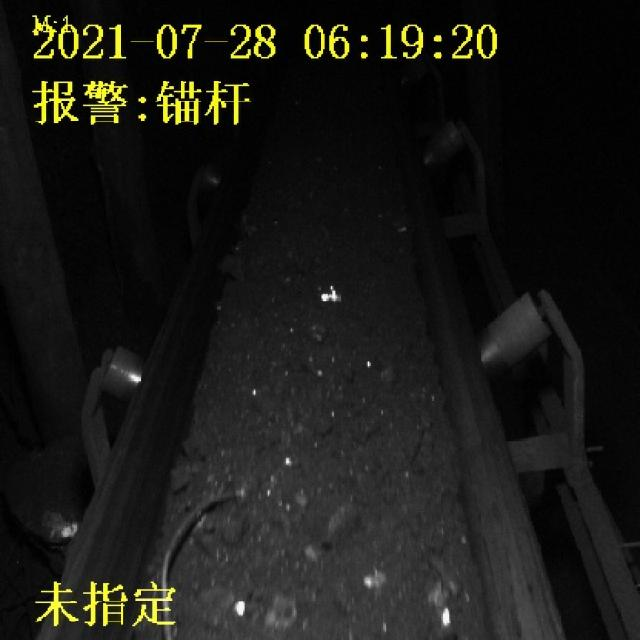bolt: (155, 487, 242, 640)
